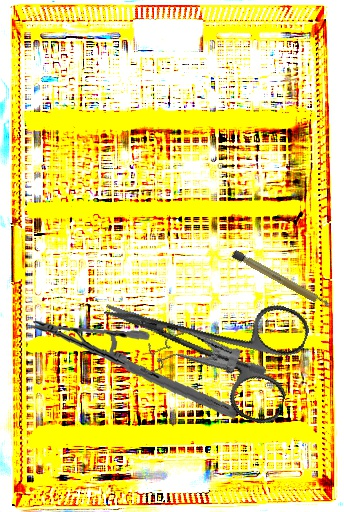Iris Scissors: (86, 249, 315, 429)
Needle Holder: (30, 301, 239, 436)
Scalpel Handle: (230, 249, 334, 312)
Speculum: (130, 306, 268, 417)
